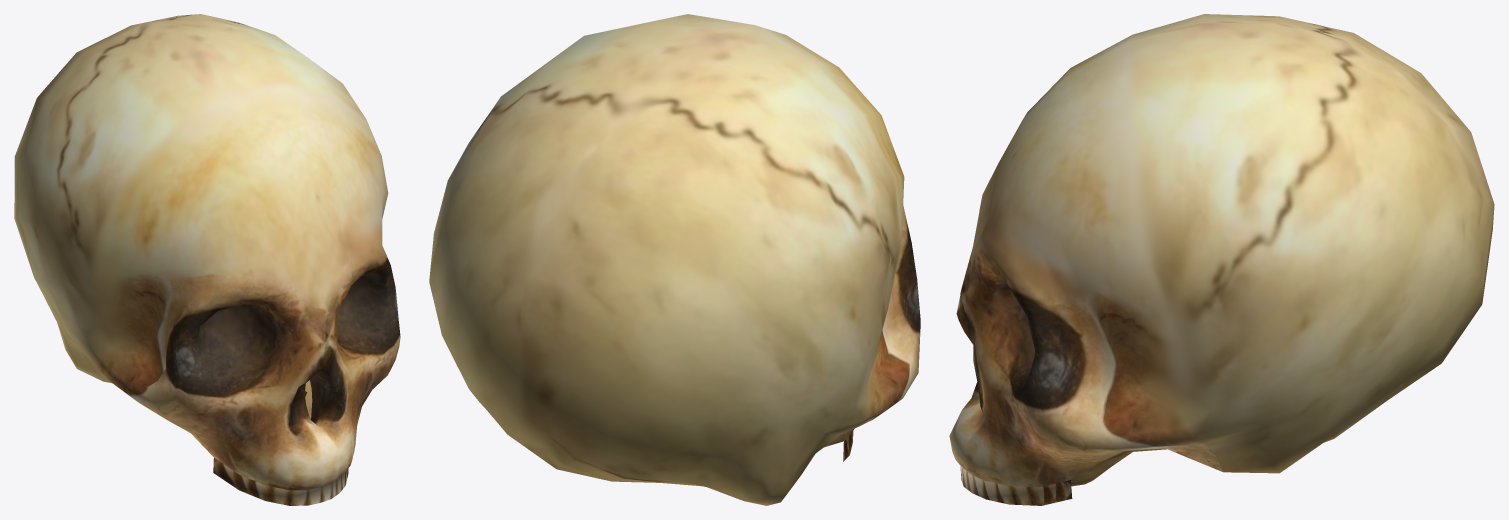
Rendered from skull.glb.
3 renders of one model, left to right at view 1: azimuth 30°, elevation 25°; view 2: azimuth 150°, elevation 25°; view 3: azimuth 270°, elevation 25°, orthographic. The views are drawn at different scales.
Parts seen in each view (by area): view 1: Craneo; view 2: Craneo; view 3: Craneo.
Boxes of the visible parts, box(x1,y1,x2,y2) form: Craneo: box(14, 14, 400, 505); Craneo: box(429, 14, 920, 505); Craneo: box(949, 14, 1494, 505).
Bounding box in the file's own units: 0.6147 × 0.7155 × 0.7889.
Materials: 1 (1 with a texture image).
